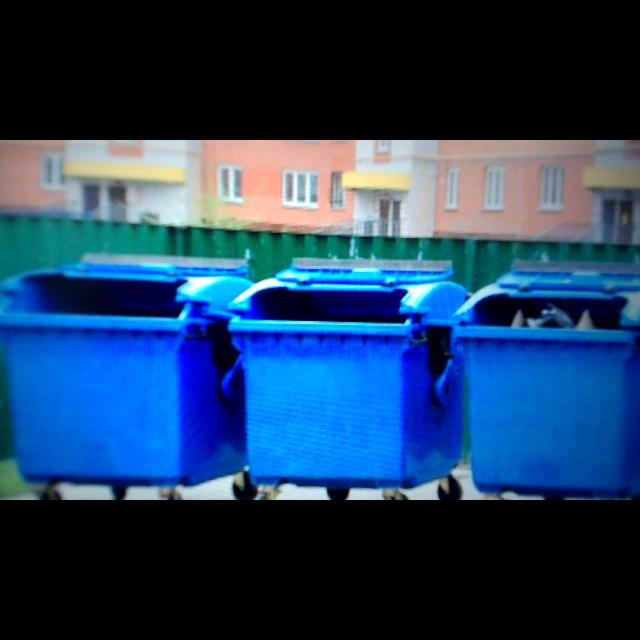Trash_Can_Empty: (0, 273, 255, 486), (227, 287, 471, 487)
Trash_Can_Full: (456, 294, 640, 496)
